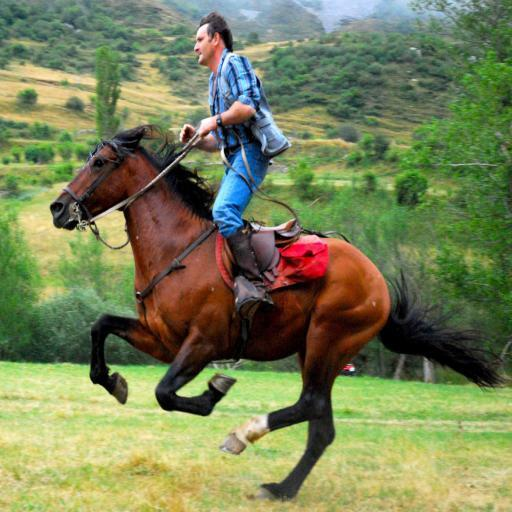horse: (50, 14, 512, 502)
